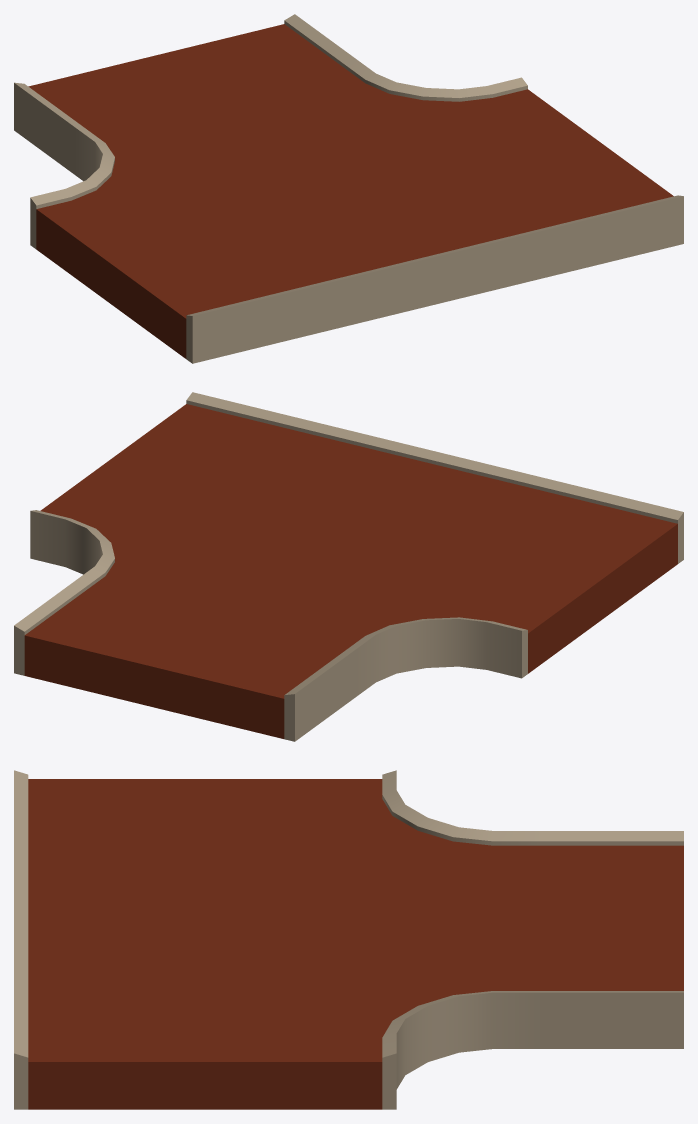
The model's file is Path_CollegeEntrance.fbx.
3 views of the same model, one above another, from view 1: azimuth 30°, elevation 25°; view 2: azimuth 150°, elevation 25°; view 3: azimuth 270°, elevation 25° (orthographic). The views are drawn at different scales.
Visible parts, largest first — view 1: Path_CollegeEntrance; view 2: Path_CollegeEntrance; view 3: Path_CollegeEntrance.
Part boxes in pixels (x1,y1,x2,y2): Path_CollegeEntrance: [14, 14, 683, 363]; Path_CollegeEntrance: [14, 392, 683, 741]; Path_CollegeEntrance: [14, 770, 683, 1109].
Bounding box in the file's own units: 700 × 65 × 700.
